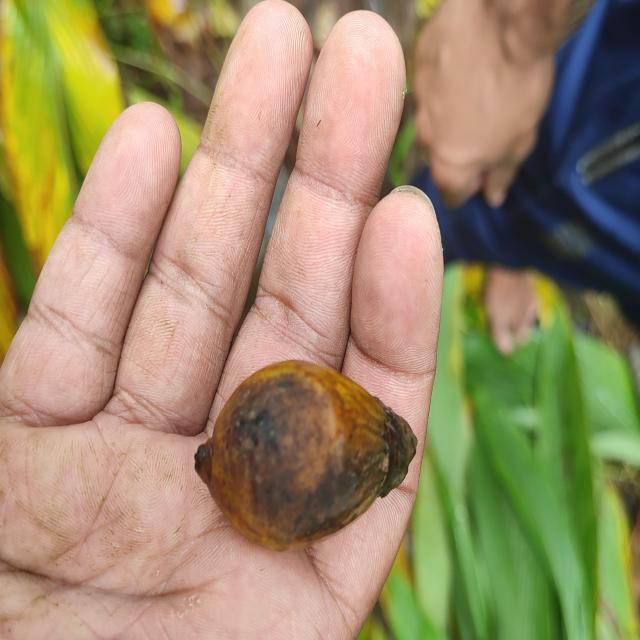damaged: (193, 360, 421, 554)
